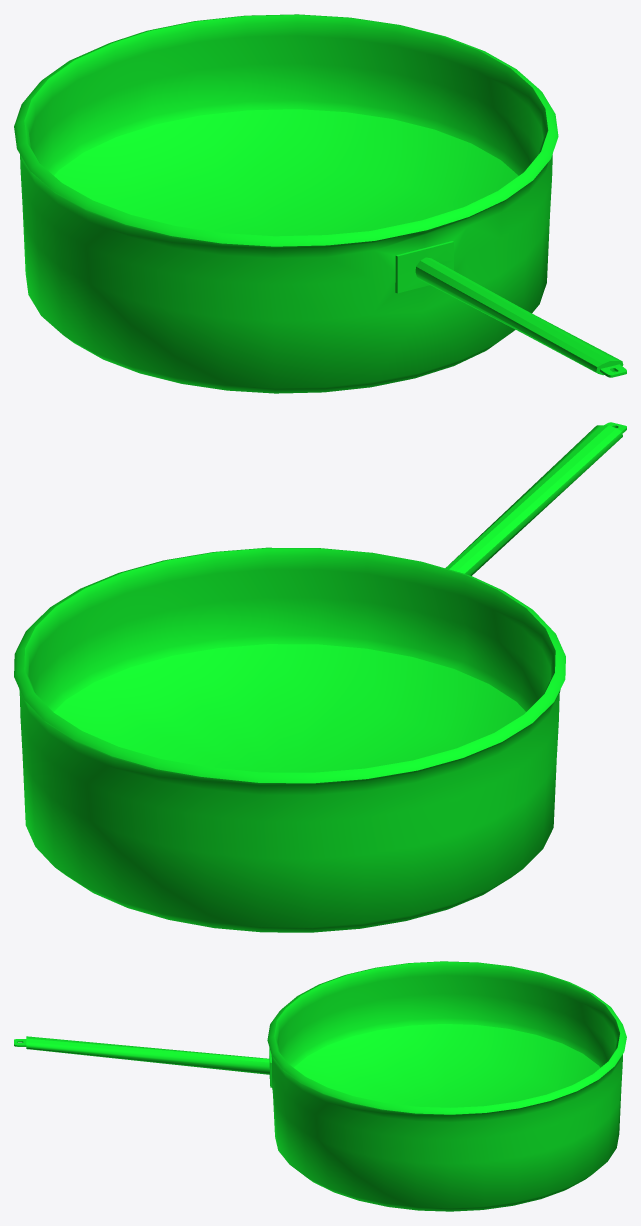
The model's file is Pan.fbx.
3 renders of one model, top to bottom at view 1: azimuth 30°, elevation 25°; view 2: azimuth 150°, elevation 25°; view 3: azimuth 270°, elevation 25°, orthographic. The views are drawn at different scales.
Parts seen in each view (by area): view 1: pan; view 2: pan; view 3: pan.
Boxes of the visible parts, bbox=[...] form: pan: bbox=[14, 14, 626, 393]; pan: bbox=[14, 422, 626, 932]; pan: bbox=[14, 961, 626, 1211].
Bounding box in the file's own units: 39.3 × 12.99 × 67.
